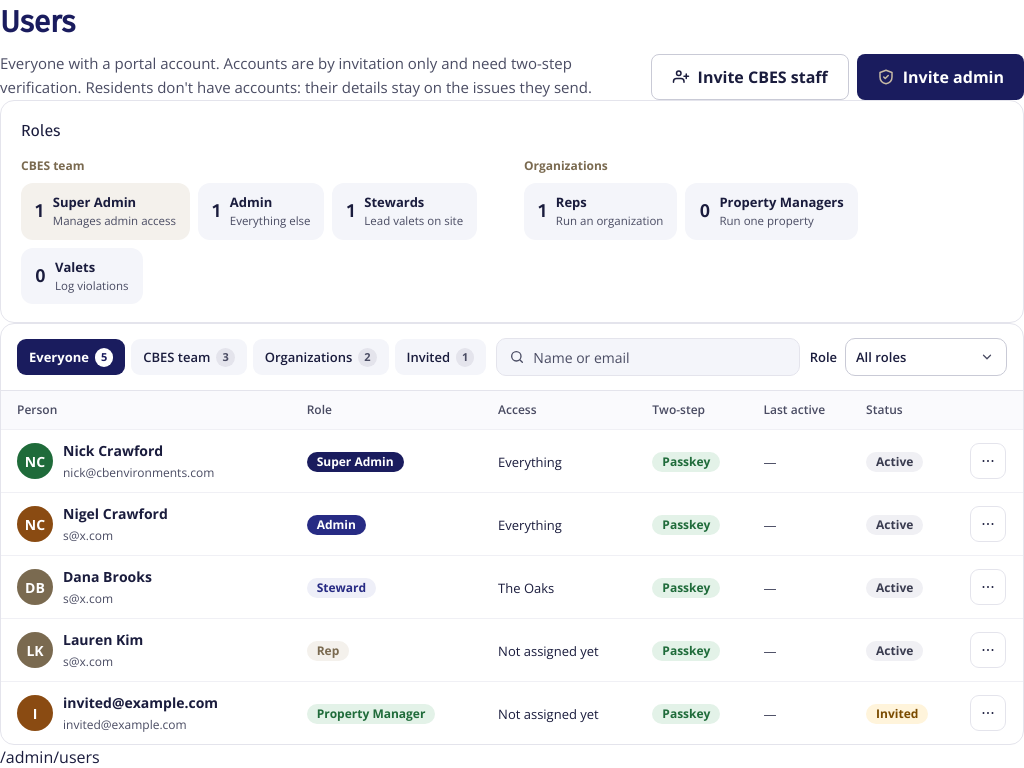
Test case: Users roles › requires confirmation and a passkey to change a user to admin
The image size is (1024, 768).
Click the button named "Actions for Dana Brooks": point(988, 587) [970,569,1006,605]
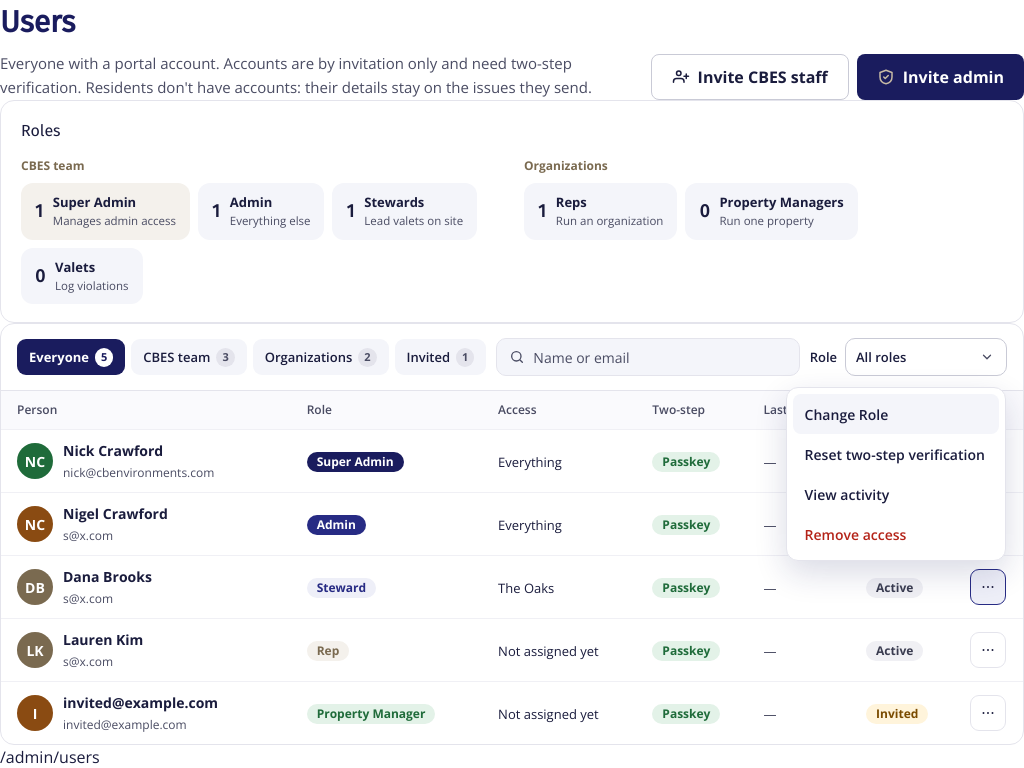
Click the menu item "Change Role": point(896, 414) [793,394,999,434]
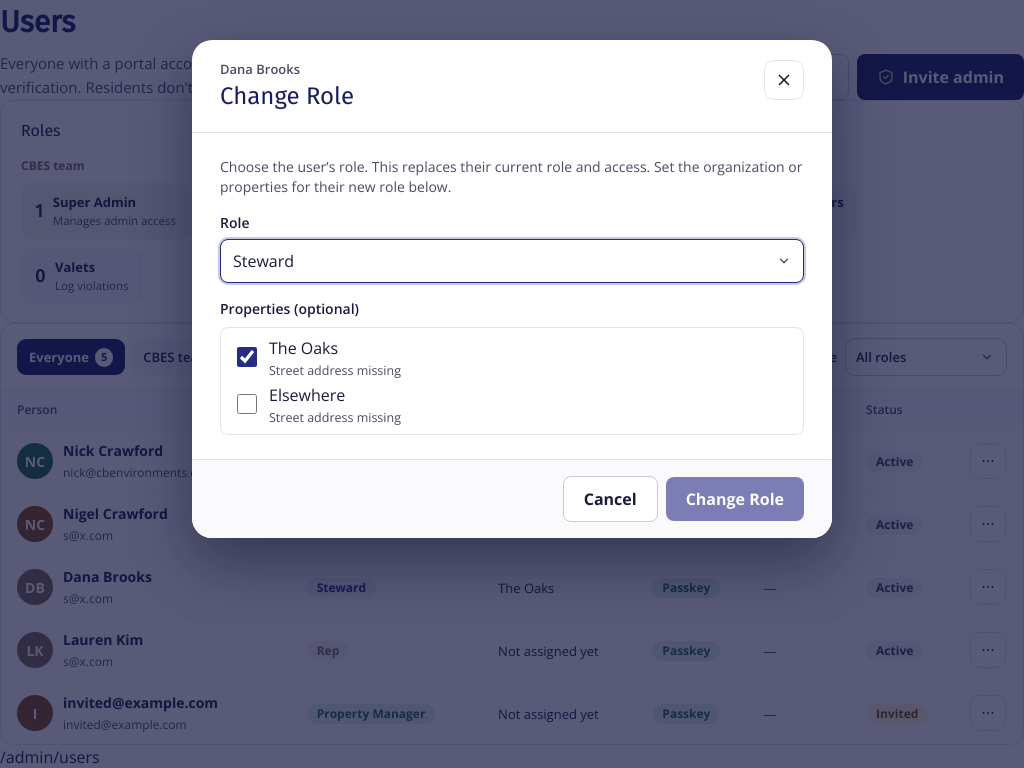
Select "Admin" in the dropdown labelled "Role": point(512, 260) [220,238,804,282]
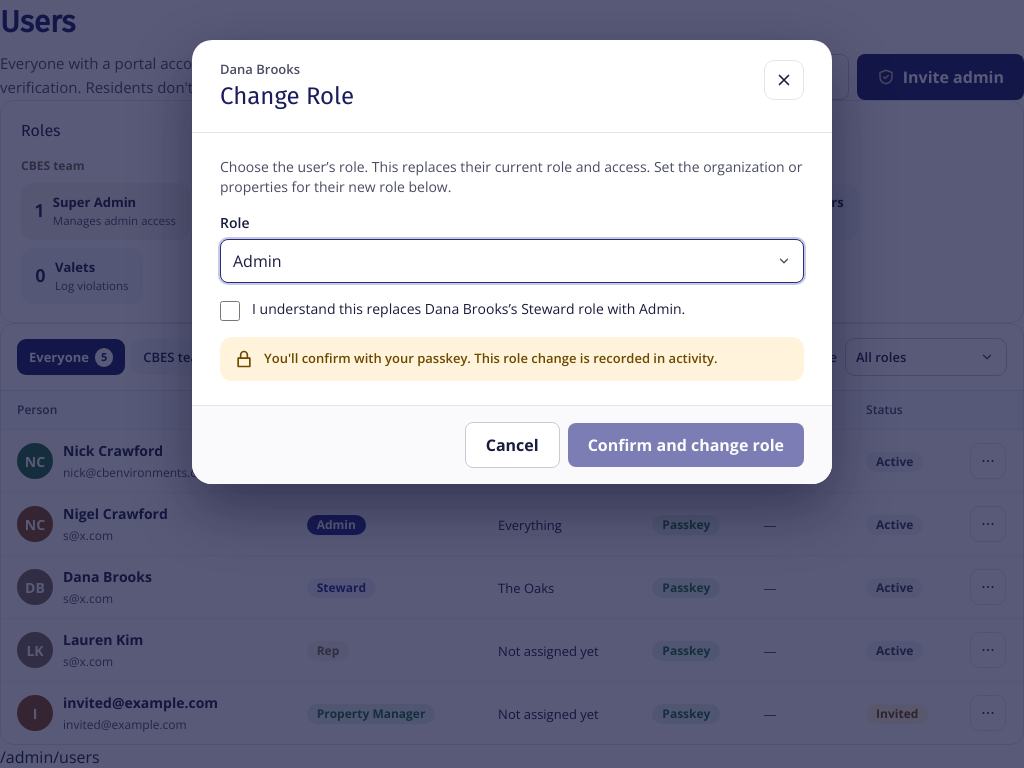
Result: the button "Confirm and change role" is disabled at [568,422,804,466]
Click the checkbox labelled "I understand this replaces": point(230, 310) [220,300,240,320]
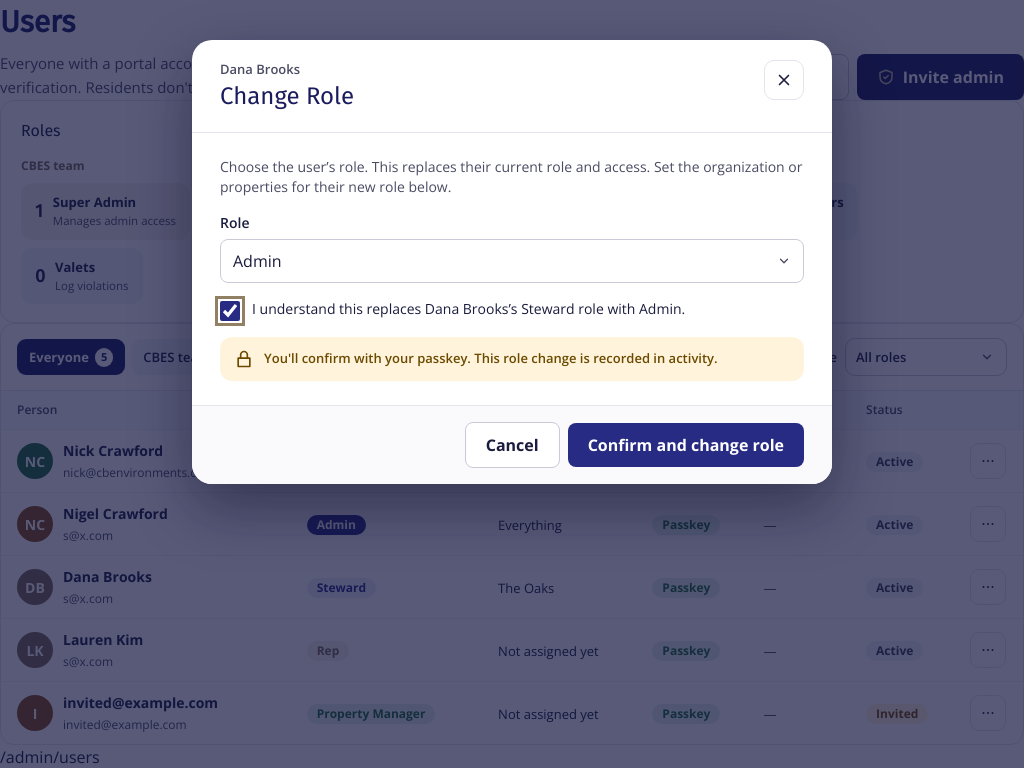
Click the button "Confirm and change role": point(686, 444) [568,422,804,466]
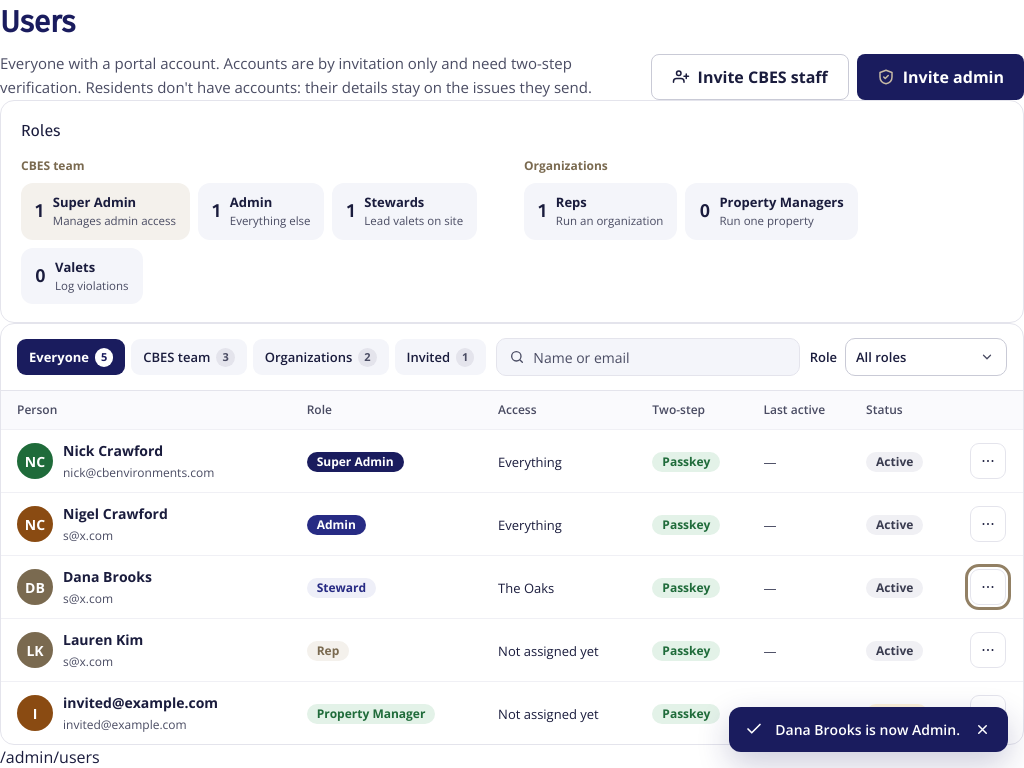
Result: the dialog is gone
